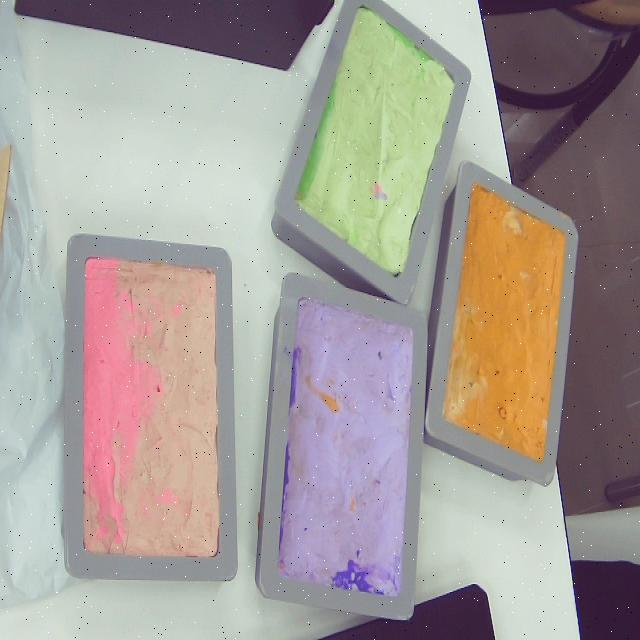block: (62, 233, 240, 582), (269, 1, 468, 310), (254, 273, 425, 621), (418, 159, 579, 491)
